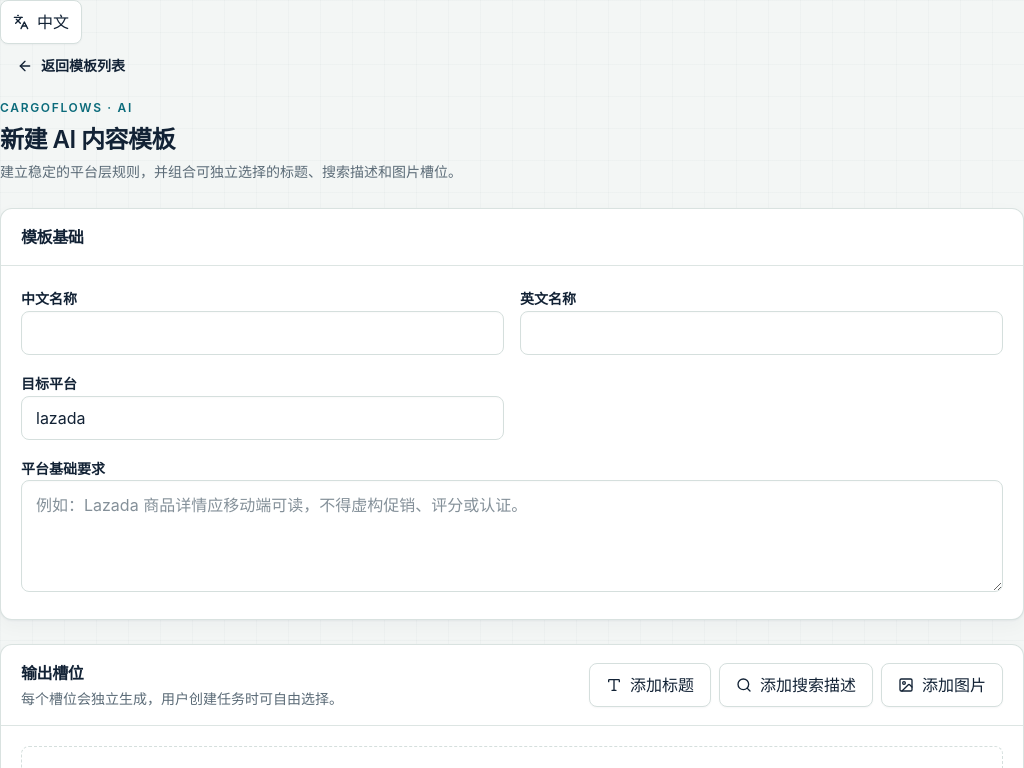
Test: NewAITemplatePage › blocks creation until bilingual names and a valid slot exist
Type "Lazada 商品详情" into the field labelled "中文名称" at {"x": 262, "y": 333}, box [21, 311, 504, 355]
(page scrolled)
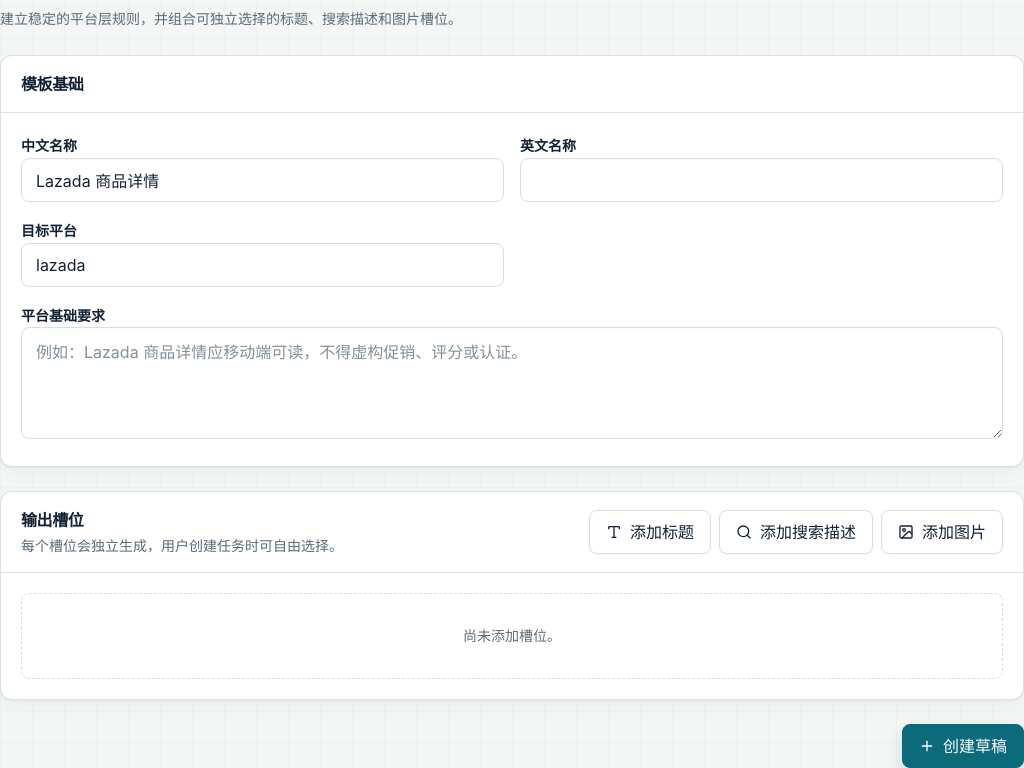
Click the button "创建草稿" at {"x": 963, "y": 746}, box [902, 724, 1023, 767]
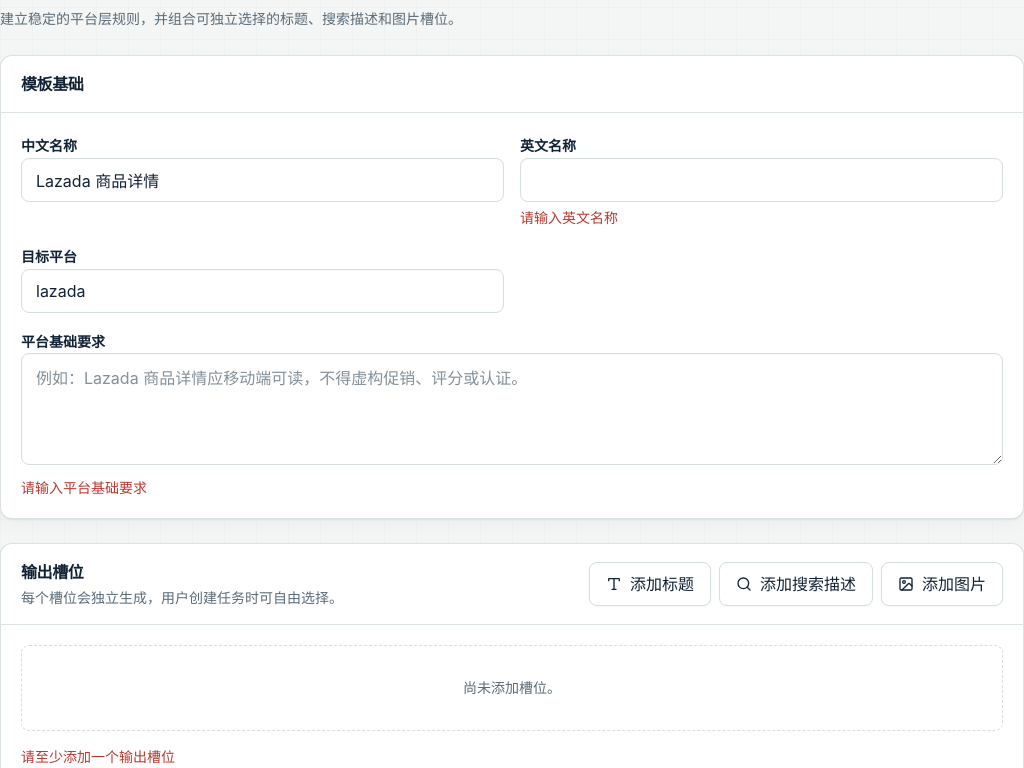
Expected: the text "请输入英文名称" is shown, [520, 209, 618, 226]
